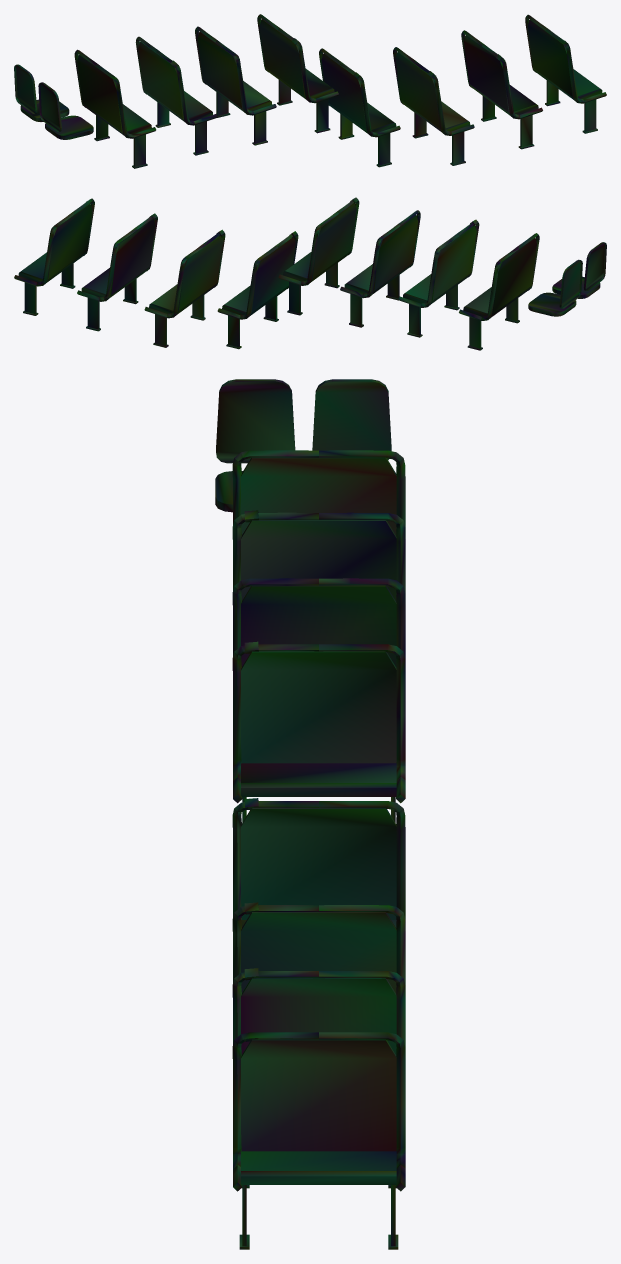
Rendered from SM_busChair1.fbx.
The picture shows the model from 3 angles, top to bottom: view 1: azimuth 30°, elevation 25°; view 2: azimuth 150°, elevation 25°; view 3: azimuth 270°, elevation 25°; orthographic projection. The views are drawn at different scales.
Parts seen in each view (by area): view 1: polySurface884; view 2: polySurface884; view 3: polySurface884.
Part boxes in pixels (x1,y1,x2,y2): polySurface884: (14,14,606,168); polySurface884: (14,197,606,350); polySurface884: (215,379,405,1249).
Size of the model in its own units: 465 by 140 by 69.92.
